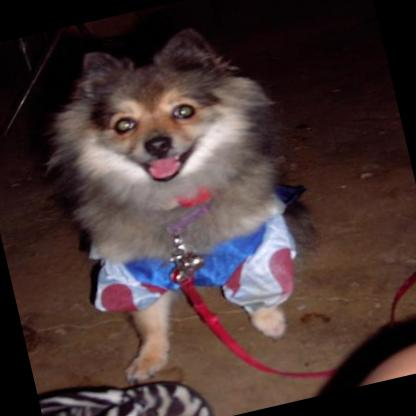Pomeranian: (30, 12, 326, 390)
